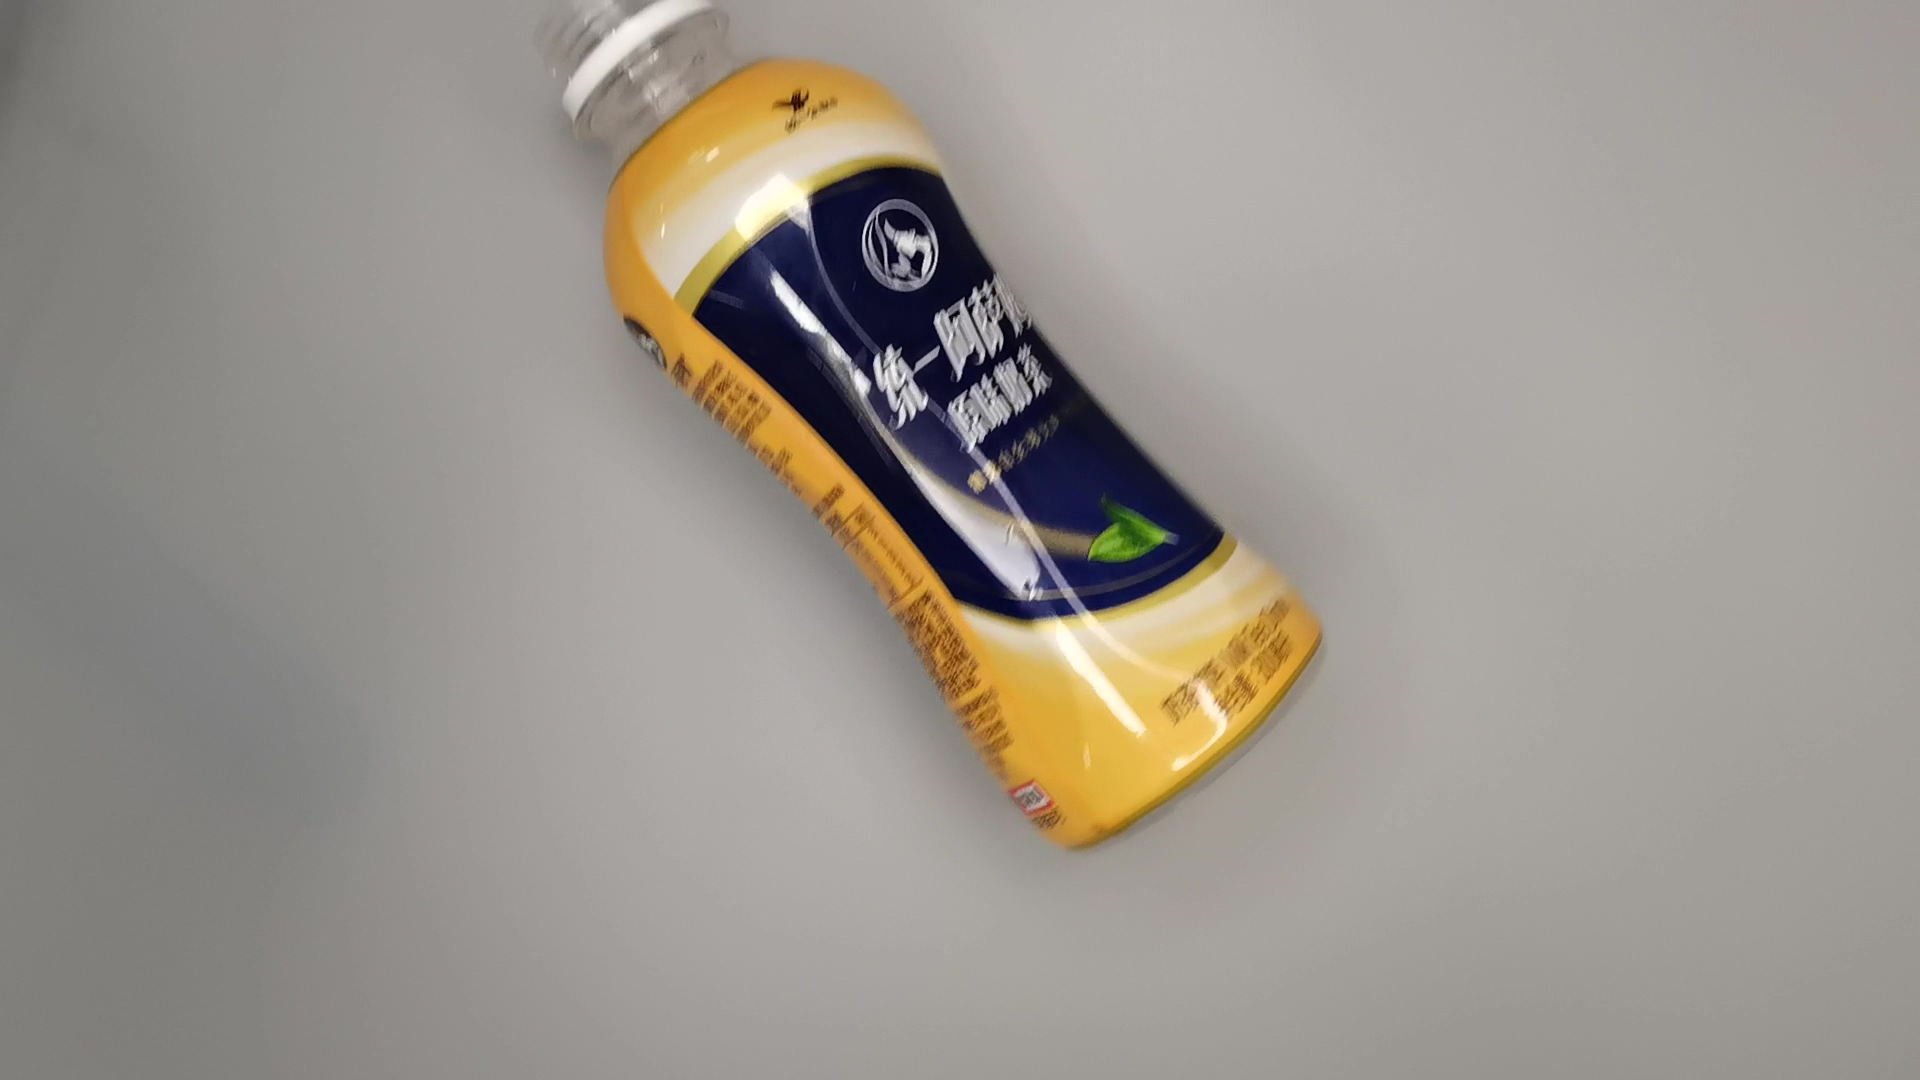bottle: (518, 1, 1341, 876)
